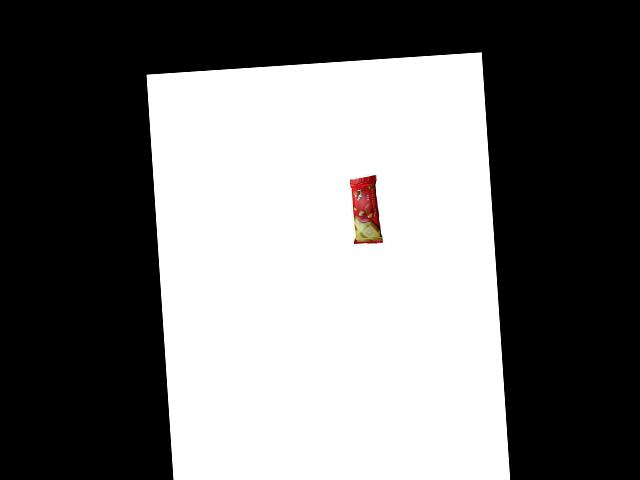chocolate: (347, 170, 387, 244)
